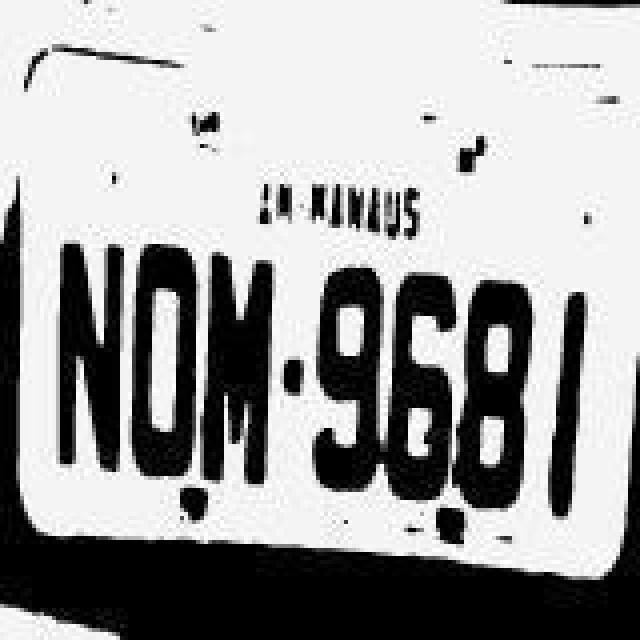1: (550, 286, 602, 522)
6: (384, 264, 456, 504)
8: (456, 270, 536, 514)
9: (310, 264, 386, 496)
M: (200, 252, 280, 492)
N: (50, 236, 126, 484)
O: (122, 238, 198, 490)
